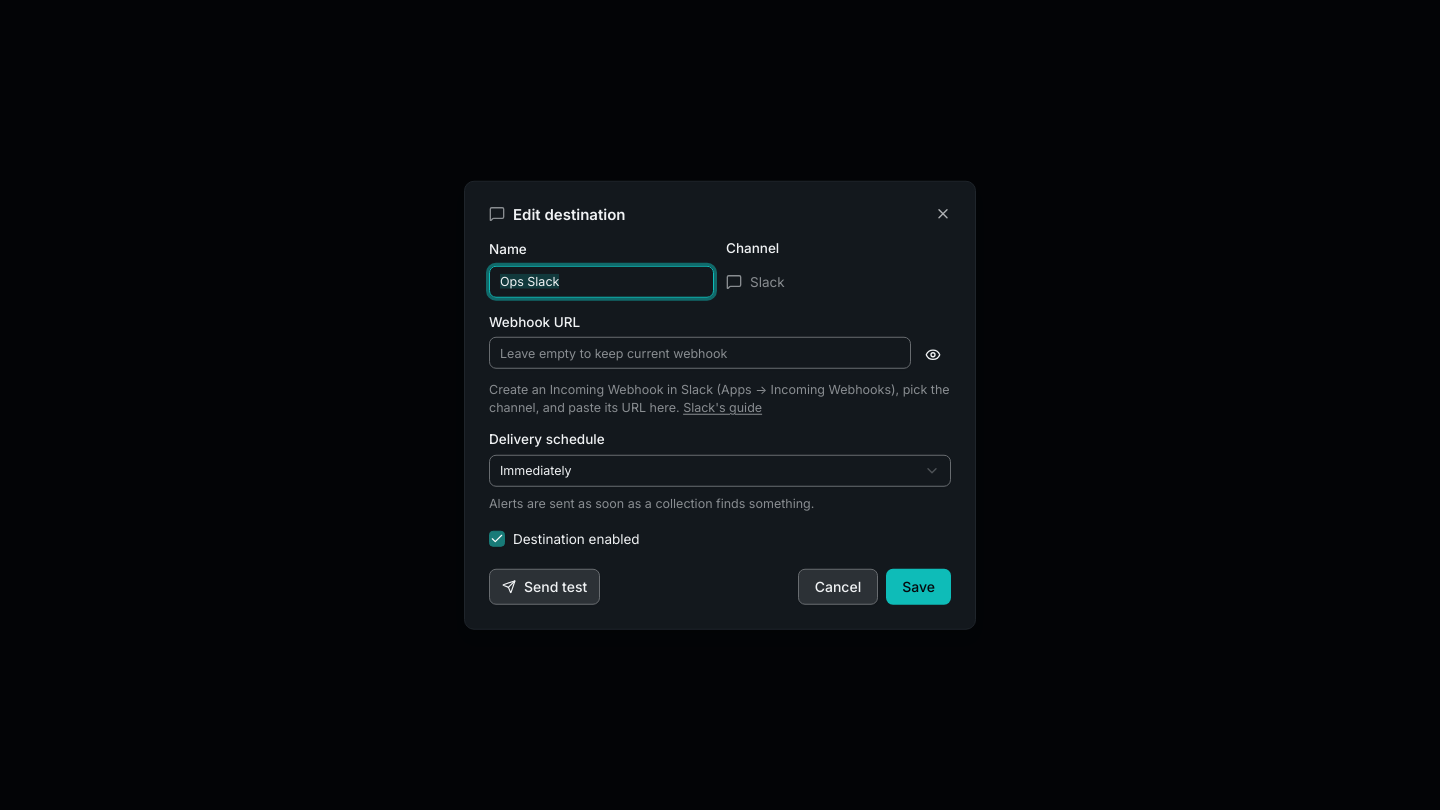
it: DestinationDialog — Send test before saving (AL-30) › names the saved destination on edit, leaving a blank secret to the stored one
This screenshot has width=1440, height=810.
Click the button "Send test": click(545, 586) [489,568,600,604]
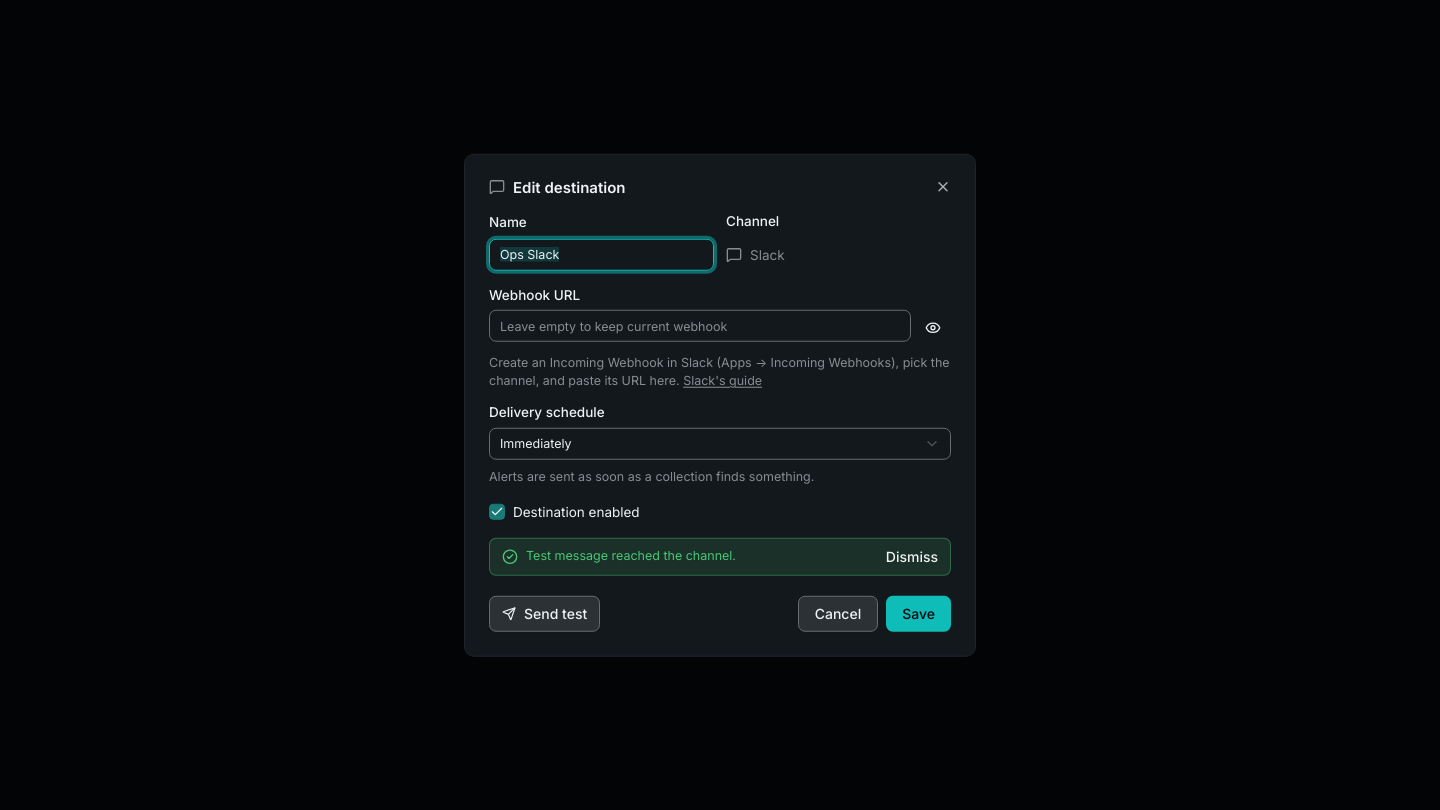
Result: the text "Test message reached the channel." is shown at [526,547,736,562]
